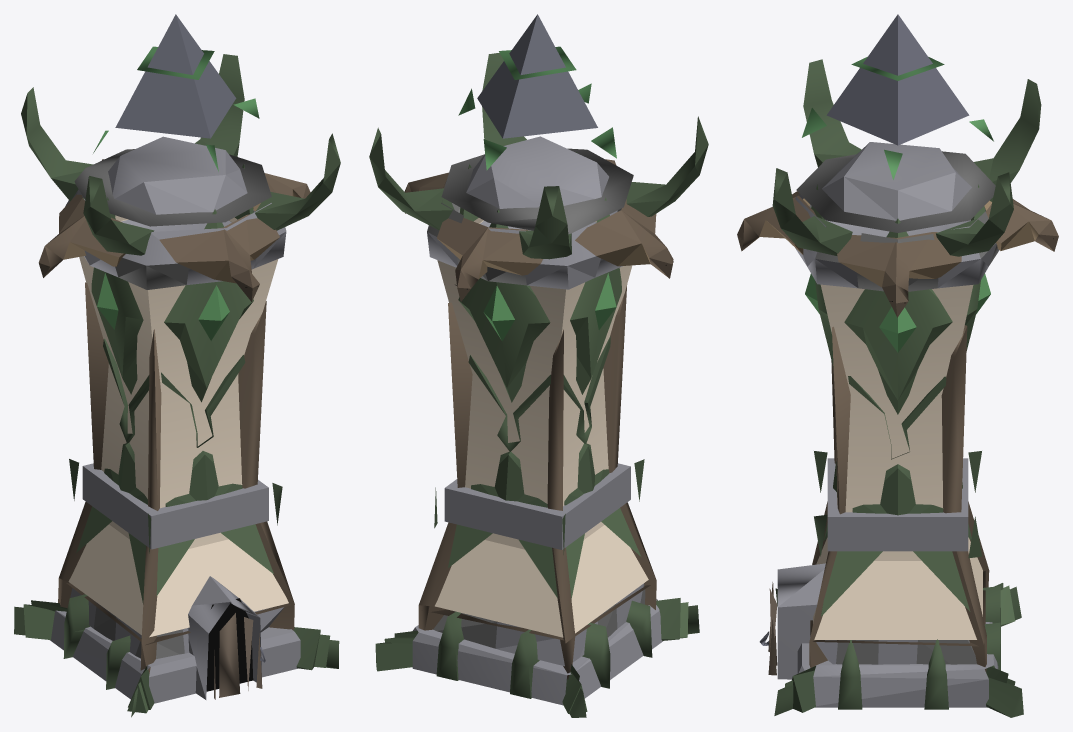
File: Torre_Poison_LOD.fbx
3 views of the same model, side by side, from view 1: azimuth 30°, elevation 25°; view 2: azimuth 150°, elevation 25°; view 3: azimuth 270°, elevation 25° (orthographic). The views are drawn at different scales.
Visible parts, largest first — view 1: LOD2; view 2: LOD2; view 3: LOD2.
Part boxes in pixels (box(x1,y1,x2,y2)): LOD2: box(14, 14, 340, 717); LOD2: box(369, 14, 708, 717); LOD2: box(737, 14, 1058, 717).
Size of the model in its own units: 684 by 1529 by 684.
